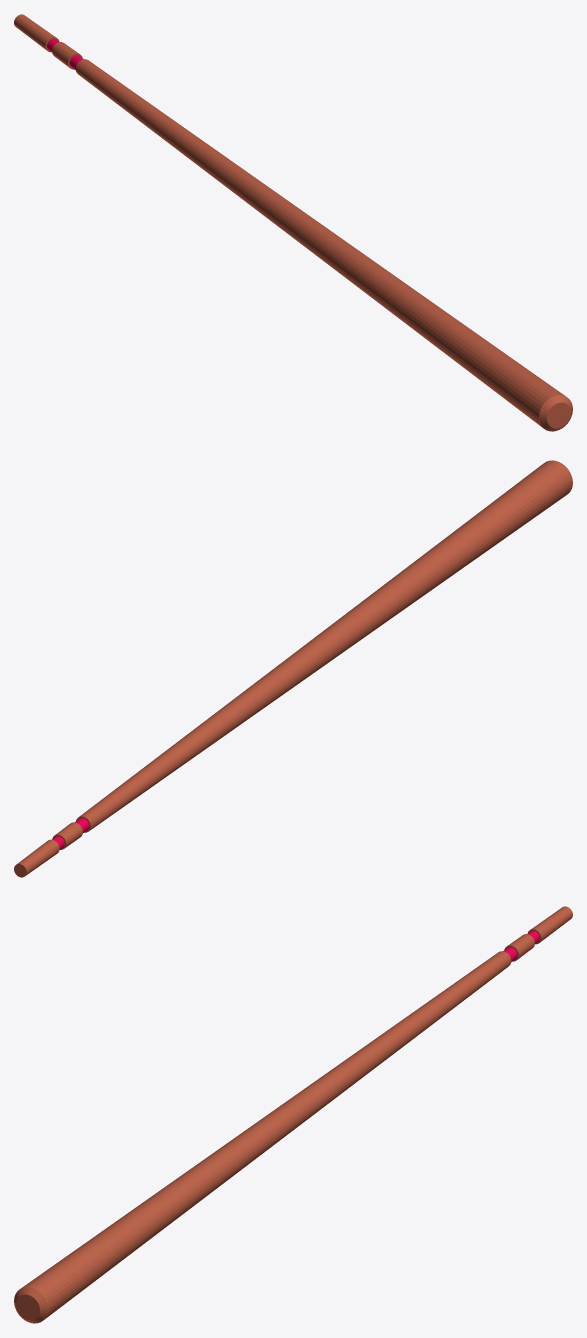
The model's file is Pointer.fbx.
The picture shows the model from 3 angles, top to bottom: view 1: azimuth 30°, elevation 25°; view 2: azimuth 150°, elevation 25°; view 3: azimuth 330°, elevation 25°; orthographic projection.
Parts seen in each view (by area): view 1: Cylinder; view 2: Cylinder; view 3: Cylinder.
Boxes of the visible parts, <box> form: Cylinder: <box>14,14,572,431</box>; Cylinder: <box>14,460,572,877</box>; Cylinder: <box>14,906,572,1323</box>.
Size of the model in its own units: 43.98 by 43.98 by 1207.
